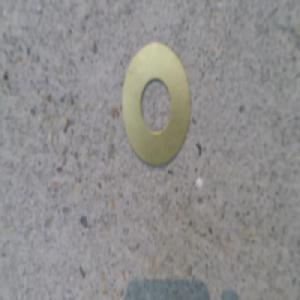Washer: (122, 41, 192, 173)
